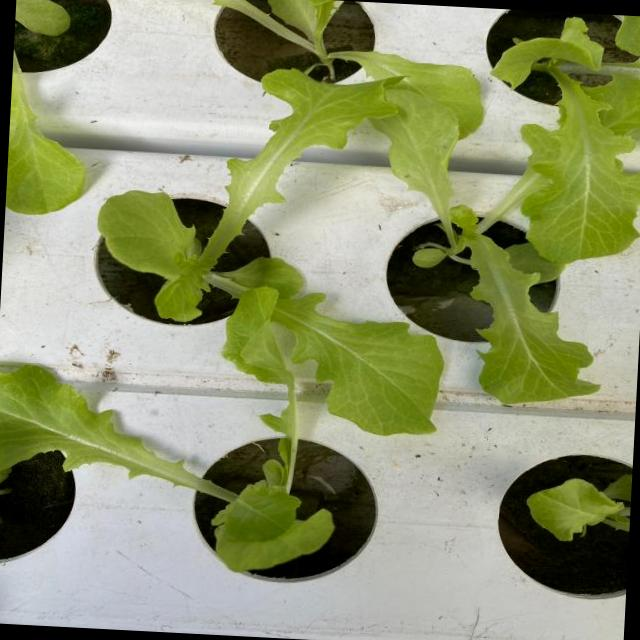Lettuce-Not-Ready-to-Harvest: (100, 58, 468, 439), (0, 274, 361, 587), (358, 80, 640, 411), (514, 10, 640, 267)
